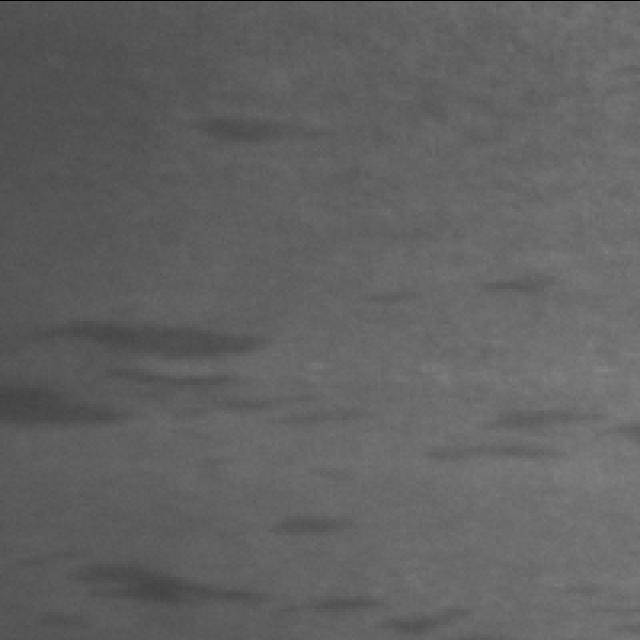inclusion: (400, 382, 612, 482), (29, 294, 247, 371), (53, 543, 244, 606), (186, 87, 326, 169), (0, 374, 128, 452), (358, 599, 482, 640), (269, 494, 353, 554)
